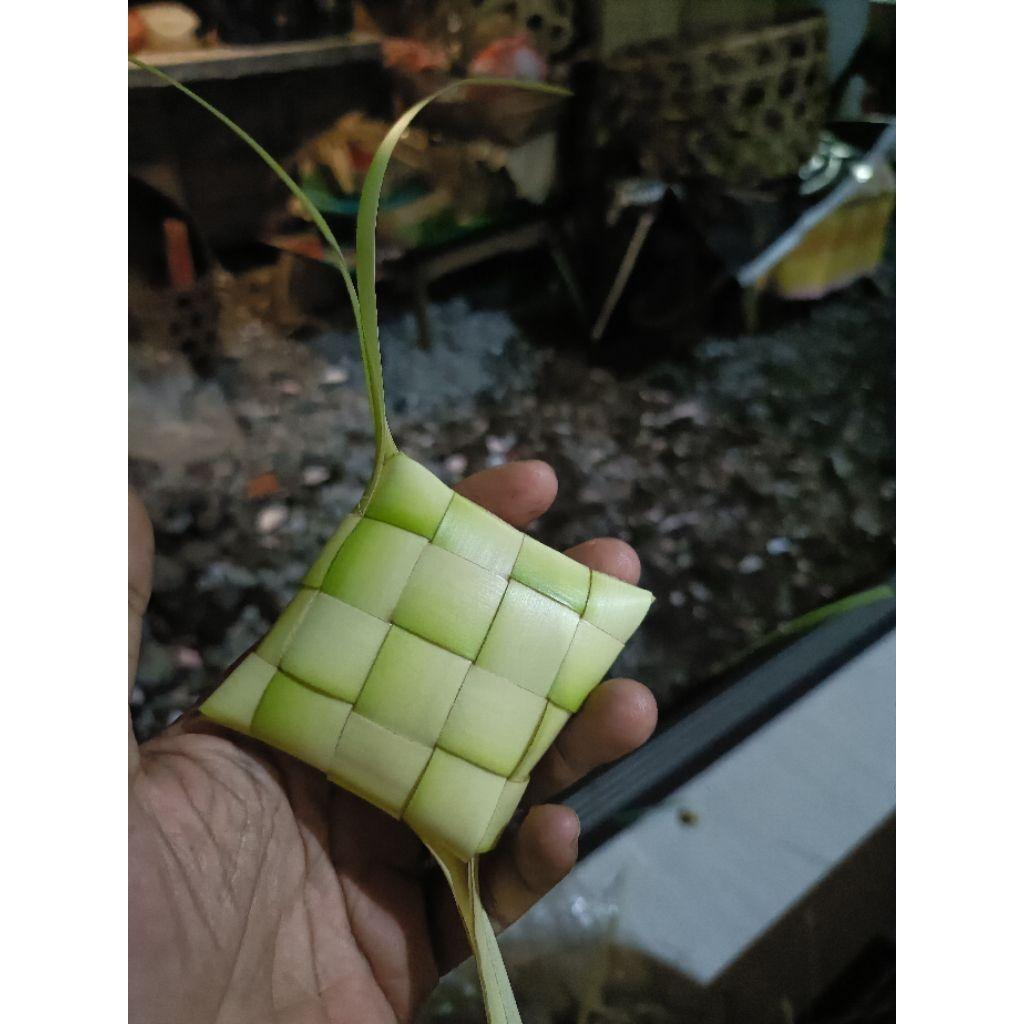Tipat Nasi: (203, 454, 651, 859)
